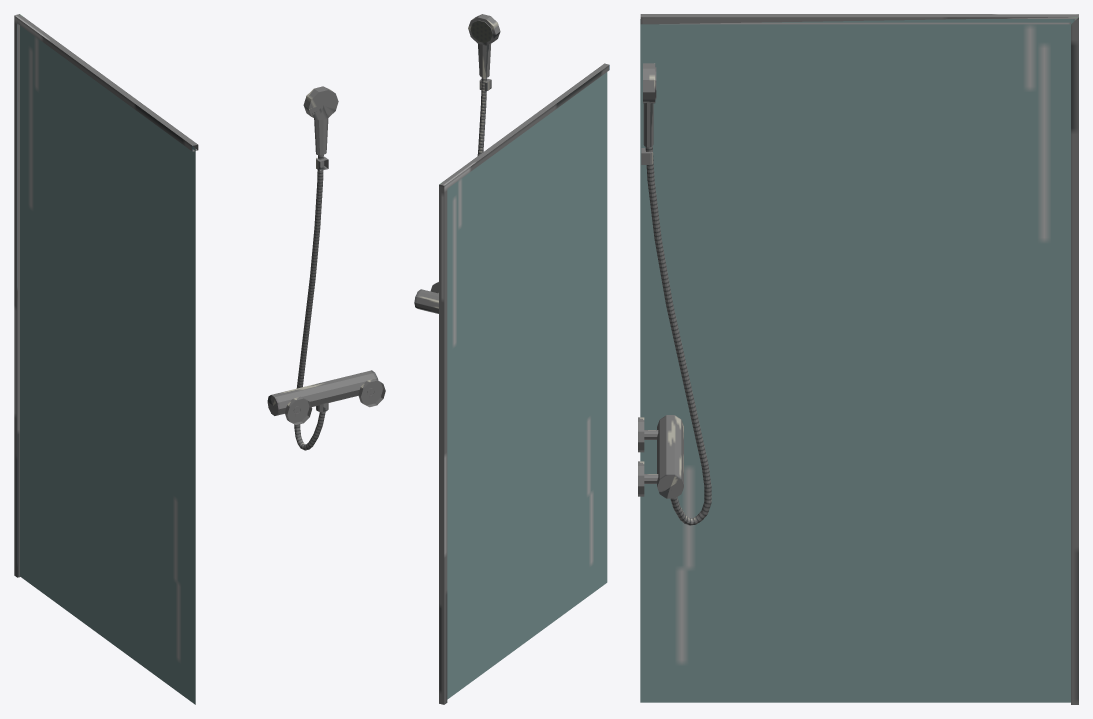
Rendered from Shower.fbx.
3 views of the same model, side by side, from view 1: azimuth 30°, elevation 25°; view 2: azimuth 150°, elevation 25°; view 3: azimuth 270°, elevation 25° (orthographic). The views are drawn at different scales.
Parts seen in each view (by area): view 1: Prop_ShowerWall.001, Prop_Shower.001; view 2: Prop_ShowerWall.001, Prop_Shower.001; view 3: Prop_ShowerWall.001, Prop_Shower.001.
Boxes of the visible parts, box(x1,y1,x2,y2) form: Prop_ShowerWall.001: box(14, 14, 198, 704); Prop_Shower.001: box(267, 86, 385, 450); Prop_ShowerWall.001: box(439, 63, 609, 704); Prop_Shower.001: box(414, 14, 500, 313); Prop_ShowerWall.001: box(640, 14, 1078, 704); Prop_Shower.001: box(638, 63, 711, 525).
Bounding box in the file's own units: 102 × 295 × 165.
2 materials, 2 textured.
